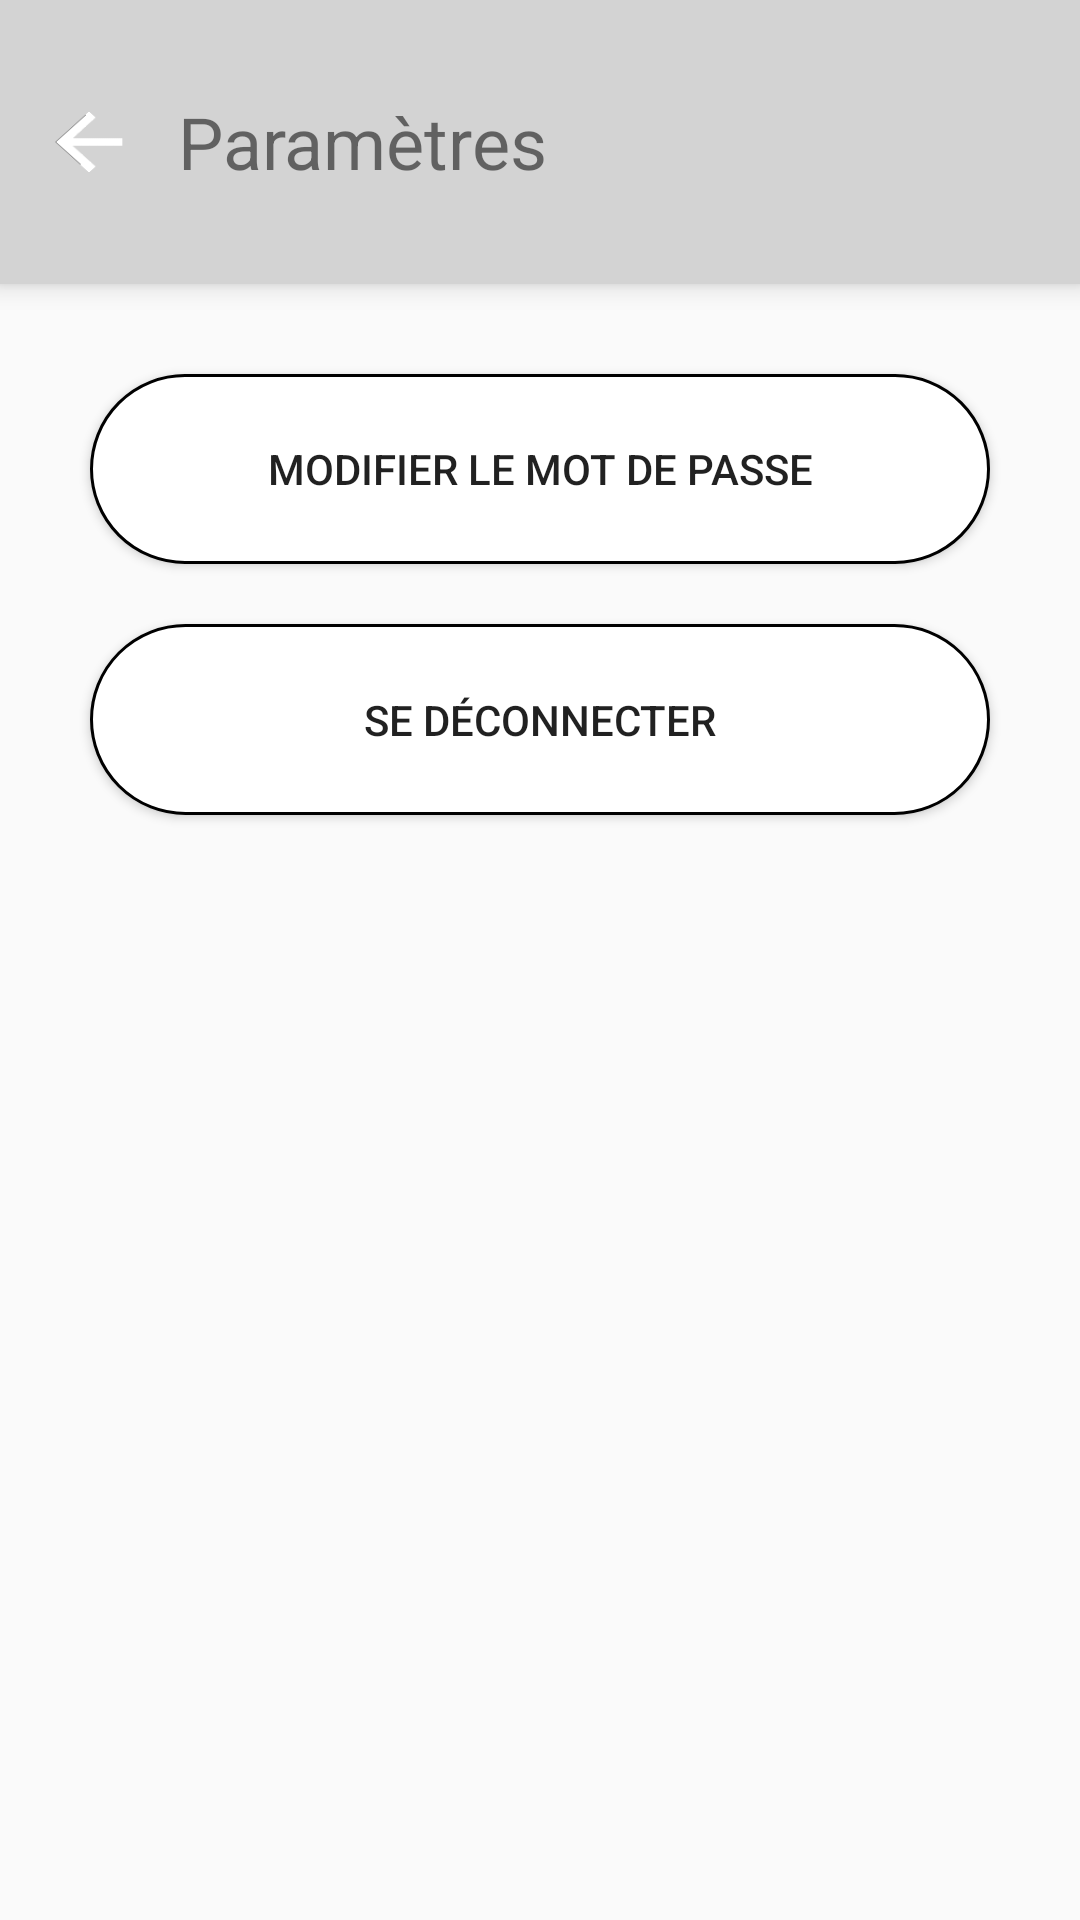

Icons on this 1080 × 1920 Android screen, each with the point to tap as [x,y]:
arrow back: [88,142]
